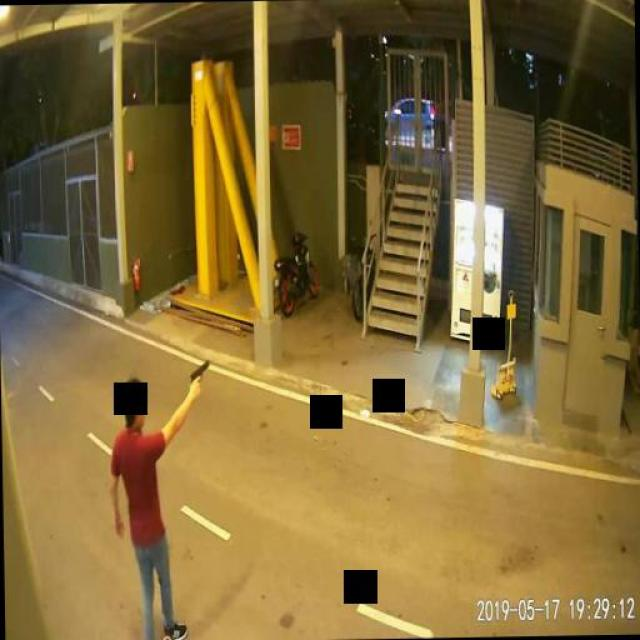gun: (190, 358, 208, 394)
